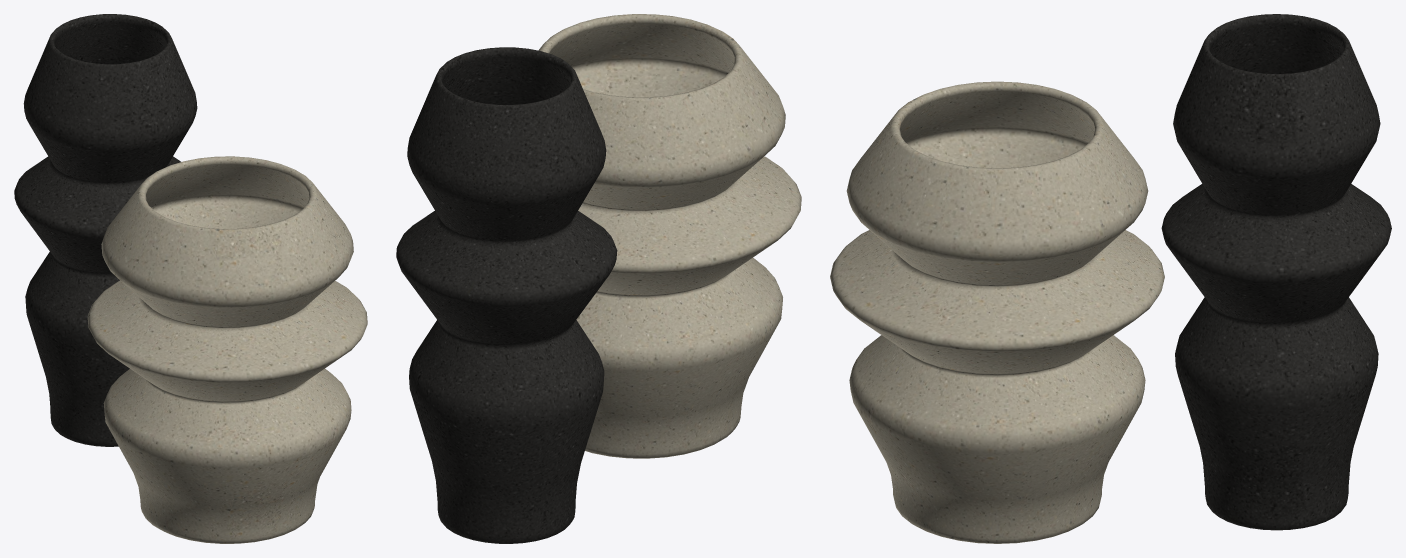
File: twin_concrete_vase.glb
3 views of the same model, side by side, from view 1: azimuth 30°, elevation 25°; view 2: azimuth 150°, elevation 25°; view 3: azimuth 270°, elevation 25° (orthographic). The views are drawn at different scales.
Visible parts, largest first — view 1: SM_Twinvase; view 2: SM_Twinvase; view 3: SM_Twinvase.
Boxes of the visible parts, box(x1,y1,x2,y2) form: SM_Twinvase: box(14, 14, 367, 543); SM_Twinvase: box(396, 14, 801, 543); SM_Twinvase: box(830, 14, 1391, 543).
Size of the model in its own units: 0.1607 by 0.242 by 0.2695.
1 material, 1 textured.
